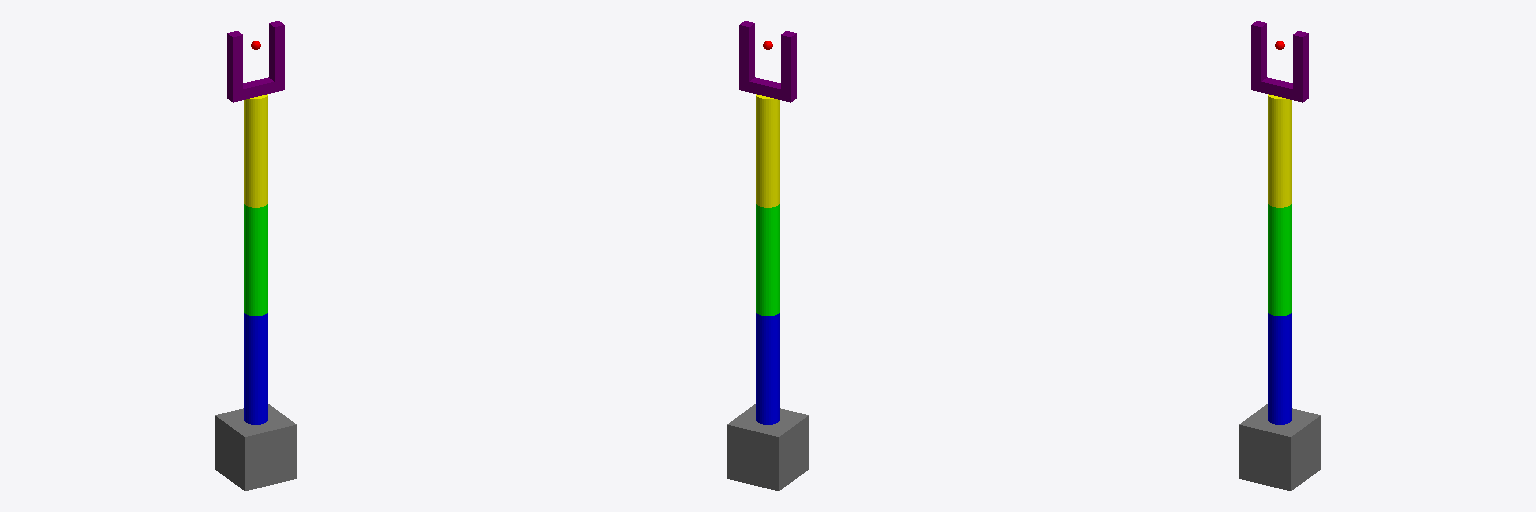
URDF robot description (rpr_manipulator):
<?xml version="1.0"?>
<robot name="rpr_manipulator">

  <!-- Base Link -->
  <link name="base_link">
    <visual>
      <origin xyz="0 0 0" rpy="0 0 0"/>
      <geometry>
        <box size="0.25 0.25 0.25"/>
      </geometry>
      <material name="gray">
        <color rgba="0.5 0.5 0.5 1"/>
      </material>
    </visual>
    <!-- DONT NEED COLLISIONS HERE AT THE MOMENT -->
    <!-- <collision>
      <origin xyz="0 0 0.125" rpy="0 0 0"/>
      <geometry>
        <box size="0.25 0.25 0.25"/>
      </geometry>
    </collision> -->
  </link>

  <!-- Joint 1 {REVOLUTE} -->
  <joint name="joint1" type="revolute">
    <parent link="base_link"/>
    <child link="link1"/>
    <origin xyz="0 0 0.125" rpy="0 0 0"/>
    <axis xyz="1 0 0"/>
    <limit lower="-3.14" upper="3.14" effort="10" velocity="1"/>
  </joint>
  <!-- Joint 1 -->
  <!-- <joint name="joint1" type="prismatic">
    <parent link="base_link"/>
    <child link="link1"/>
    <origin xyz="0 0 0.125" rpy="0 0 0"/>
    <axis xyz="0 1 0"/>
    <limit lower="-1.0" upper="1.0" effort="10" velocity="1"/>
  </joint> -->

  <!-- Link 1 -->
  <link name="link1">
    <visual>
      <origin xyz="0 0 0.25" rpy="0 0 0"/>
      <geometry>
        <cylinder length="0.5" radius="0.05"/>
      </geometry>
      <material name="blue">
        <color rgba="0 0 1 1"/>
      </material>
    </visual>
    <collision>
      <origin xyz="0 0 0.25" rpy="0 0 0"/>
      <geometry>
        <cylinder length="0.5" radius="0.05"/>
      </geometry>
    </collision>
  </link>

  <!-- Link 2 -->
  <link name="link2">
    <visual>
      <origin xyz="0 0 0.25" rpy="0 0 0"/>
      <geometry>
        <cylinder length="0.5" radius="0.05"/>
      </geometry>
      <material name="green">
        <color rgba="0 1 0 1"/>
      </material>
    </visual>
    <collision>
      <origin xyz="0 0 0.25" rpy="0 0 0"/>
      <geometry>
        <cylinder length="0.5" radius="0.05"/>
      </geometry>
    </collision>
  </link>

  <!-- Joint 2 -->
  <!-- <joint name="joint2" type="revolute">
    <parent link="link1"/>
    <child link="link2"/>
    <origin xyz="0 0 0.5" rpy="0 0 0"/>
    <axis xyz="1 0 0"/>
    <limit lower="-3.14" upper="3.14" effort="10" velocity="1"/>
  </joint> -->
  <!-- Joint 2 {PRISMATIC} -->
  <joint name="joint2" type="prismatic">
    <parent link="link1"/>
    <child link="link2"/>
    <origin xyz="0 0 0.5" rpy="0 0 0"/>
    <axis xyz="0 0 1"/>
    <limit lower="-1" upper="1" effort="10" velocity="1"/>
  </joint>

  <!-- Link 3 -->
  <link name="link3">
    <visual>
      <origin xyz="0 0 0.25" rpy="0 0 0"/>
      <geometry>
        <cylinder length="0.5" radius="0.05"/>
      </geometry>
      <material name="yellow">
        <color rgba="1 1 0 1"/>
      </material>
    </visual>
    <collision>
      <origin xyz="0 0 0.25" rpy="0 0 0"/>
      <geometry>
        <cylinder length="0.5" radius="0.05"/>
      </geometry>
    </collision>
  </link>

  <!-- Joint 3 -->
  <joint name="joint3" type="revolute">
    <parent link="link2"/>
    <child link="link3"/>
    <origin xyz="0 0 0.5" rpy="0 0 0"/>
    <axis xyz="1 0 0"/>
    <limit lower="-3.14" upper="3.14" effort="10" velocity="1"/>
  </joint>

  <!-- Wrist Link -->
  <link name="wrist">
    <visual>
      <origin xyz="0 0 0.5" rpy="0 0 0"/>
      <geometry>
        <box size="0.25 0.05 0.05"/>
      </geometry>
      <material name="purple">
        <color rgba="0.5 0 0.5 1"/>
      </material>
    </visual>
    <collision>
      <origin xyz="0 0 0.5" rpy="0 0 0"/>
      <geometry>
        <box size="0.25 0.05 0.05"/>
      </geometry>
    </collision>
  </link>

  <!-- Joint 4 -->
  <joint name="joint4" type="fixed">
    <parent link="link3"/>
    <child link="wrist"/>
    <origin xyz="0 0 0.025" rpy="0 0 0"/>
  </joint>

  <!-- Left Finger Link -->
  <link name="left_finger">
    <visual>
      <origin xyz="0 0 0.5" rpy="0 0 0"/>
      <geometry>
        <box size="0.05 0.05 0.25"/>
      </geometry>
      <material name="purple">
        <color rgba="0.5 0 0.5 1"/>
      </material>
    </visual>
    <collision>
      <origin xyz="0 0 0.5" rpy="0 0 0"/>
      <geometry>
        <box size="0.05 0.05 0.25"/>
      </geometry>
    </collision>
  </link>

  <!-- Joint 5 -->
  <joint name="joint5" type="fixed">
    <parent link="wrist"/>
    <child link="left_finger"/>
    <origin xyz="-0.1 0 0.15" rpy="0 0 0"/>
  </joint>

  <!-- Right Finger Link -->
  <link name="right_finger">
    <visual>
      <origin xyz="0 0 0.0" rpy="0 0 0"/>
      <geometry>
        <box size="0.05 0.05 0.25"/>
      </geometry>
      <material name="purple">
        <color rgba="0.5 0 0.5 1"/>
      </material>
    </visual>
    <collision>
      <origin xyz="0 0 0.0" rpy="0 0 0"/>
      <geometry>
        <box size="0.05 0.05 0.25"/>
      </geometry>
    </collision>
  </link>

  <!-- Joint 6 -->
  <joint name="joint6" type="fixed">
    <parent link="wrist"/>
    <child link="right_finger"/>
    <origin xyz="0.1 0 0.65" rpy="0 0 0"/>
  </joint>

  <!-- Center of gripper -->
  <link name="gripper_center">
    <visual>
      <origin xyz="0 0 0.0" rpy="0 0 0"/>
      <geometry>
        <sphere radius="0.02"/> 
      </geometry>
      <material name="red">
        <color rgba="1 0 0 1"/>
      </material>
    </visual>
    <!-- DONT NEED COLLISIONS FOR THIS VISUAL -->
    <!-- <collision>
      <origin xyz="0 0 0.0" rpy="0 0 0"/>
      <geometry>
        <sphere radius="0.02"/>
      </geometry>
    </collision> -->
  </link>

  <!-- Joint 7 -->
  <joint name="joint7" type="fixed">
    <parent link="wrist"/>
    <child link="gripper_center"/>
    <origin xyz="0 0 0.7" rpy="0 0 0"/>
  </joint>  

</robot>

--- Render facts (derived) ---
3 views of the same robot in one strip: view 1: azimuth 30°, elevation 25°; view 2: azimuth 150°, elevation 25°; view 3: azimuth 330°, elevation 25° (orthographic).
Robot: rpr_manipulator — 8 links, 7 joints (2 revolute, 1 prismatic, 4 fixed); root link base_link; default pose: every joint at zero.
Links seen in each view (by area): view 1: base_link, link3, link1, link2, left_finger, right_finger, wrist; view 2: base_link, link3, link1, link2, left_finger, right_finger, wrist; view 3: base_link, link3, link1, link2, right_finger, left_finger, wrist.
Link boxes in pixels (x1,y1,x2,y2): base_link: (215,404,296,490); link3: (244,94,267,207); link1: (244,313,267,424); link2: (244,204,267,315); left_finger: (227,31,242,91); right_finger: (269,21,284,81); wrist: (227,77,284,102); base_link: (727,404,808,490); link3: (756,94,779,207); link1: (756,313,779,424); link2: (756,204,779,315); left_finger: (781,31,796,91); right_finger: (739,21,754,81); wrist: (739,77,796,102); base_link: (1239,404,1320,490); link3: (1268,94,1291,207); link1: (1268,313,1291,424); link2: (1268,204,1291,315); right_finger: (1293,31,1308,91); left_finger: (1251,21,1266,81); wrist: (1251,77,1308,102).
Bounding box of the posed robot: 0.25 × 0.25 × 2.05 m (x, y, z).
Geometry: primitives only (box / cylinder / sphere), no mesh files.